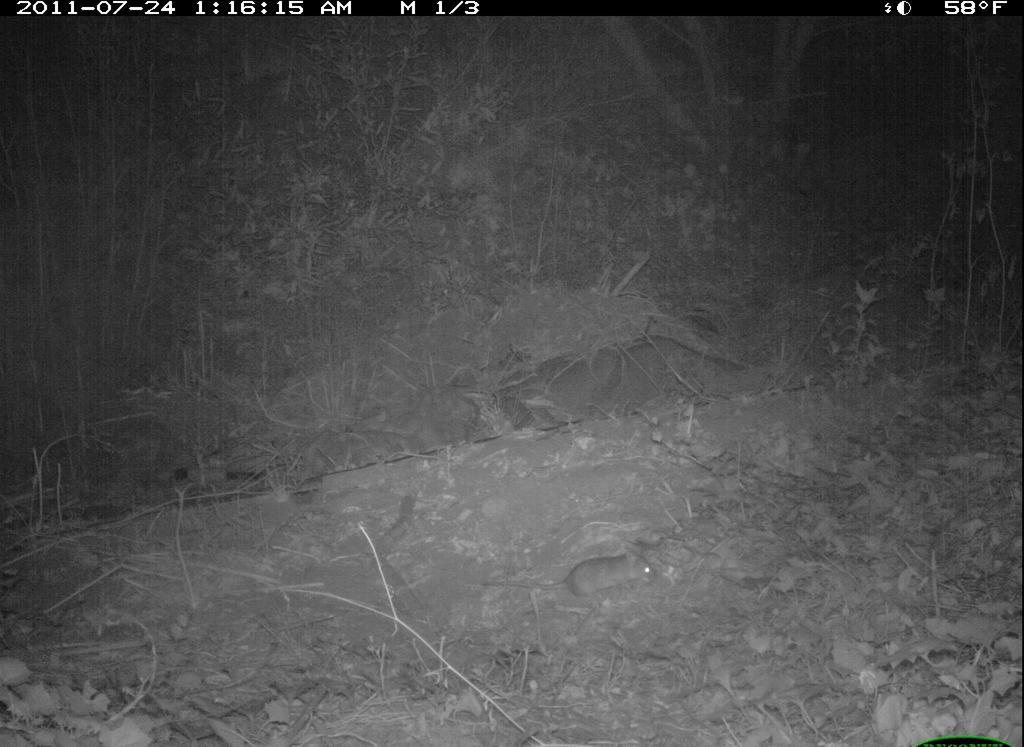rodent: (474, 538, 719, 623)
